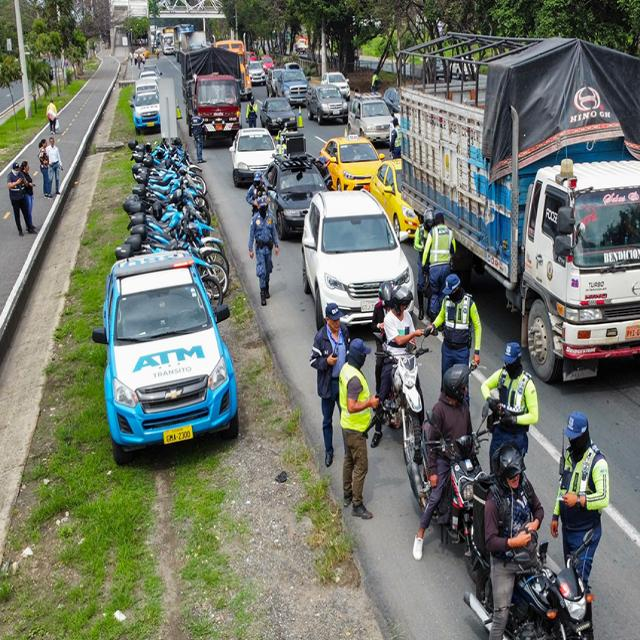CMT: (101, 257, 242, 461)
SUV: (303, 190, 416, 330)
TRUCK: (397, 39, 639, 383)
